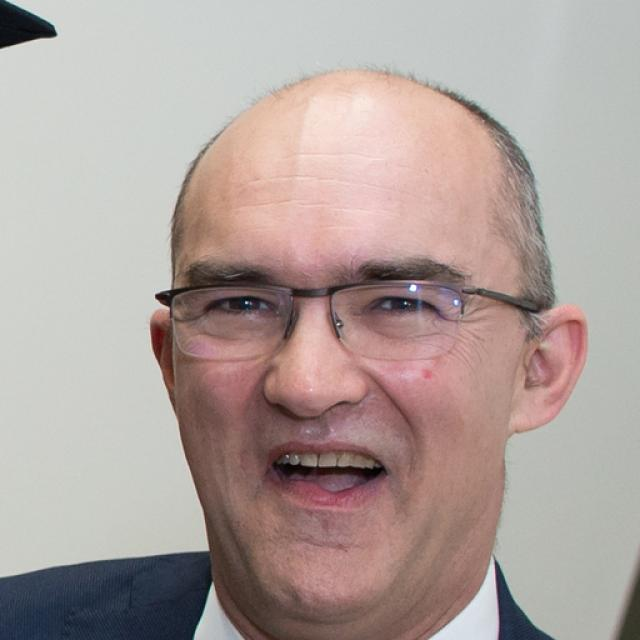Acne: (416, 362, 436, 383)
